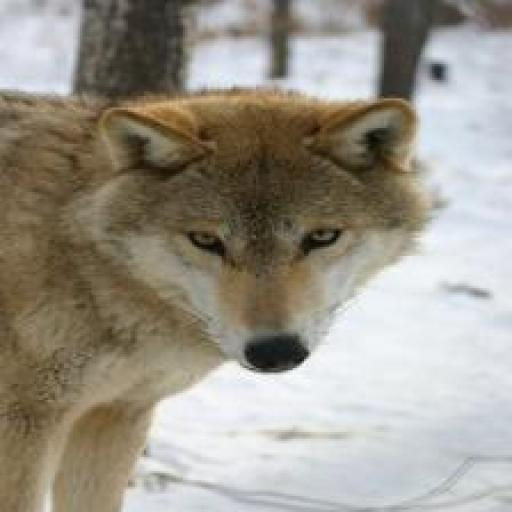wolf: (0, 77, 448, 512)
